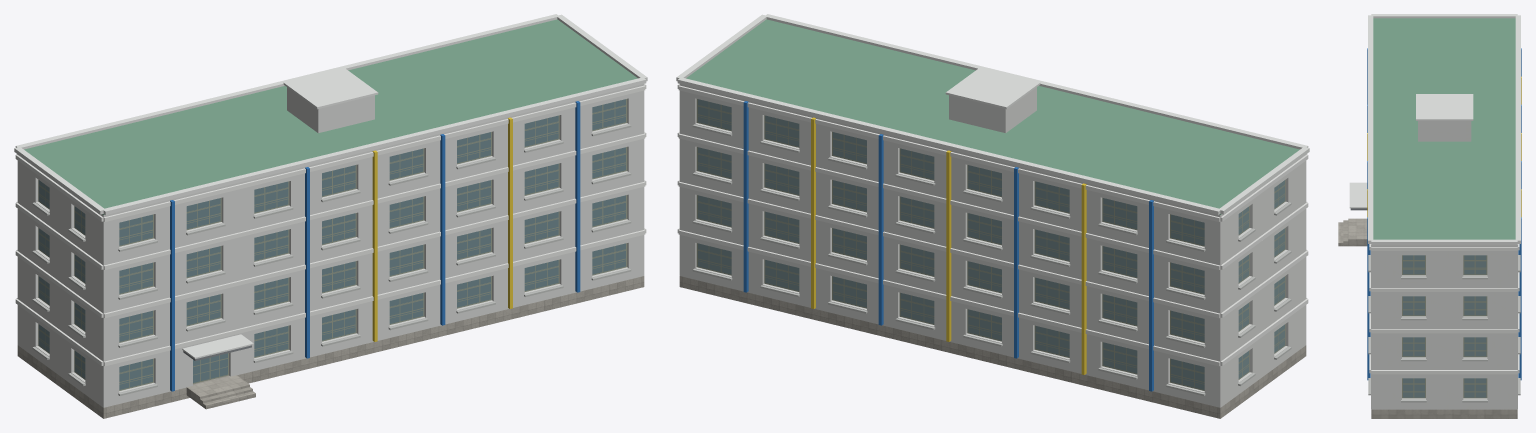
The picture shows the model from 3 angles, left to right: view 1: azimuth 30°, elevation 25°; view 2: azimuth 150°, elevation 25°; view 3: azimuth 270°, elevation 25°; orthographic projection. The views are drawn at different scales.
Parts seen in each view (by area): view 1: north-wing__panel, north-wing__roof, north-wing__glass, north-wing__band, north-wing__cap, north-wing__frame, north-wing__stone, north-wing__sill, north-wing__blue, north-wing__yellow, north-wing__sideglass, north-wing__stair-front (+1 smaller); view 2: north-wing__panel, north-wing__roof, north-wing__sideglass, north-wing__band, north-wing__frame, north-wing__cap, north-wing__stone, north-wing__sill, north-wing__blue, north-wing__yellow; view 3: north-wing__roof, north-wing__panel, north-wing__cap, north-wing__sideglass, north-wing__band, north-wing__frame, north-wing__stone, north-wing__sill, north-wing__blue, north-wing__threshold-front, north-wing__stair-front.
Part boxes in pixels (x1=…): north-wing__panel: x1=17, y1=84, x2=644, y2=407; north-wing__roof: x1=24, y1=19, x2=637, y2=214; north-wing__glass: x1=119, y1=99, x2=625, y2=389; north-wing__band: x1=15, y1=84, x2=646, y2=366; north-wing__cap: x1=14, y1=14, x2=647, y2=358; north-wing__frame: x1=38, y1=99, x2=627, y2=390; north-wing__stone: x1=17, y1=276, x2=644, y2=418; north-wing__sill: x1=32, y1=124, x2=631, y2=395; north-wing__blue: x1=170, y1=101, x2=580, y2=391; north-wing__yellow: x1=372, y1=117, x2=512, y2=341; north-wing__sideglass: x1=39, y1=180, x2=85, y2=378; north-wing__stair-front: x1=197, y1=382, x2=255, y2=409; north-wing__panel: x1=679, y1=84, x2=1306, y2=407; north-wing__roof: x1=686, y1=19, x2=1299, y2=214; north-wing__sideglass: x1=698, y1=99, x2=1284, y2=389; north-wing__band: x1=677, y1=84, x2=1308, y2=366; north-wing__frame: x1=696, y1=99, x2=1285, y2=390; north-wing__cap: x1=676, y1=14, x2=1309, y2=215; north-wing__stone: x1=679, y1=276, x2=1306, y2=418; north-wing__sill: x1=692, y1=124, x2=1291, y2=395; north-wing__blue: x1=743, y1=101, x2=1153, y2=391; north-wing__yellow: x1=811, y1=117, x2=1086, y2=374; north-wing__roof: x1=1373, y1=18, x2=1515, y2=239; north-wing__panel: x1=1371, y1=121, x2=1517, y2=409; north-wing__cap: x1=1349, y1=14, x2=1520, y2=245; north-wing__sideglass: x1=1403, y1=255, x2=1486, y2=397; north-wing__band: x1=1369, y1=244, x2=1519, y2=374; north-wing__frame: x1=1402, y1=255, x2=1487, y2=398; north-wing__stone: x1=1371, y1=409, x2=1517, y2=418; north-wing__sill: x1=1368, y1=255, x2=1520, y2=402; north-wing__blue: x1=1367, y1=48, x2=1521, y2=380; north-wing__threshold-front: x1=1353, y1=218, x2=1367, y2=246; north-wing__stair-front: x1=1338, y1=218, x2=1353, y2=246.
Size of the model in its own units: 40.5 by 16.54 by 13.76.
Materials: 13 (1 with a texture image).
